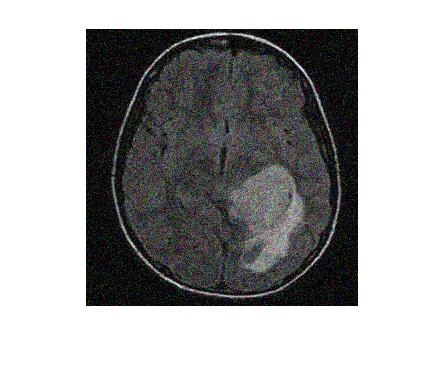Brain_Cancer: (229, 165, 302, 270)
